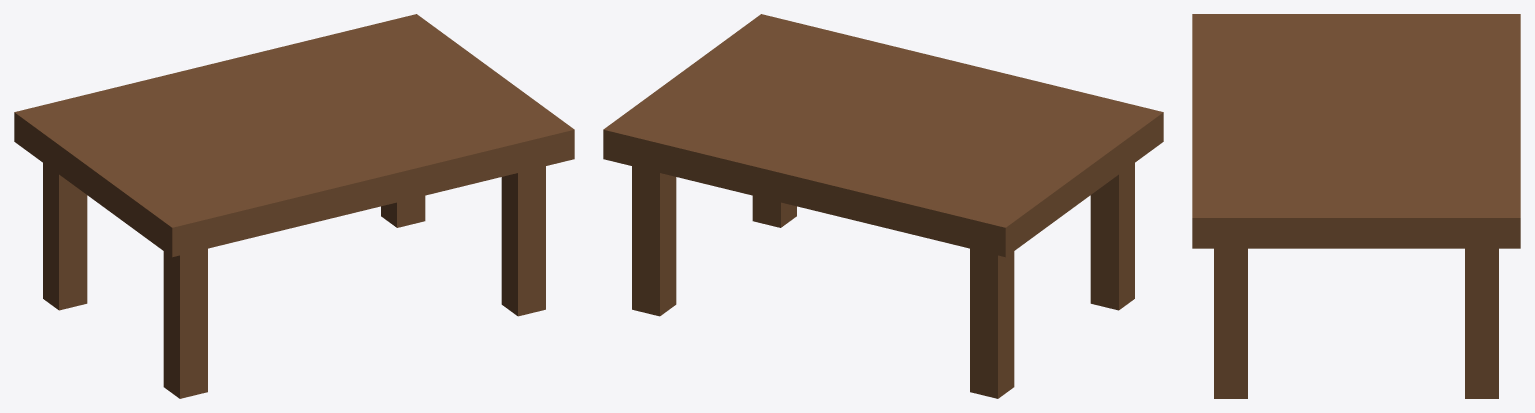
The model's file is Prop_Mesa.obj.
3 renders of one model, left to right at view 1: azimuth 30°, elevation 25°; view 2: azimuth 150°, elevation 25°; view 3: azimuth 270°, elevation 25°, orthographic. The views are drawn at different scales.
Parts seen in each view (by area): view 1: madera; view 2: madera; view 3: madera.
Part boxes in pixels (box(x1,y1,x2,y2)): madera: box(14, 14, 574, 398); madera: box(603, 14, 1163, 398); madera: box(1192, 14, 1520, 398).
Bounding box in the file's own units: 0.5 × 0.2175 × 0.34.
